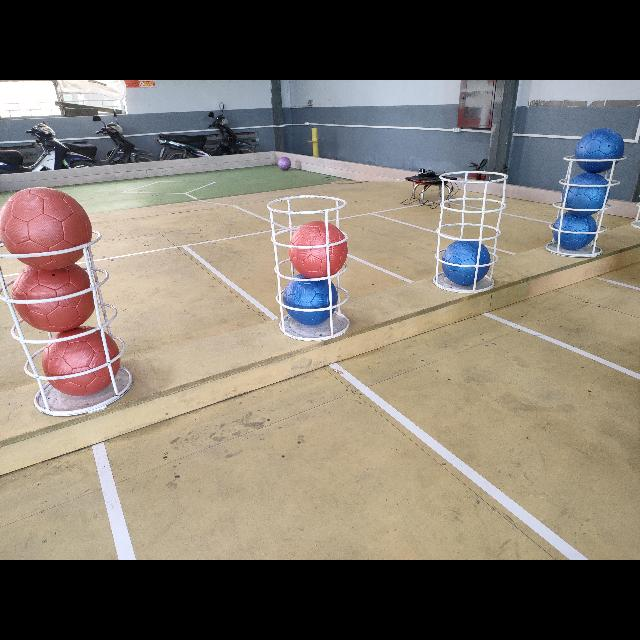B: (572, 127, 622, 173), (284, 275, 334, 321), (444, 237, 491, 283), (551, 210, 597, 252), (562, 172, 608, 210)
R: (1, 182, 95, 270), (13, 260, 101, 332), (44, 326, 120, 396), (288, 220, 350, 278)
